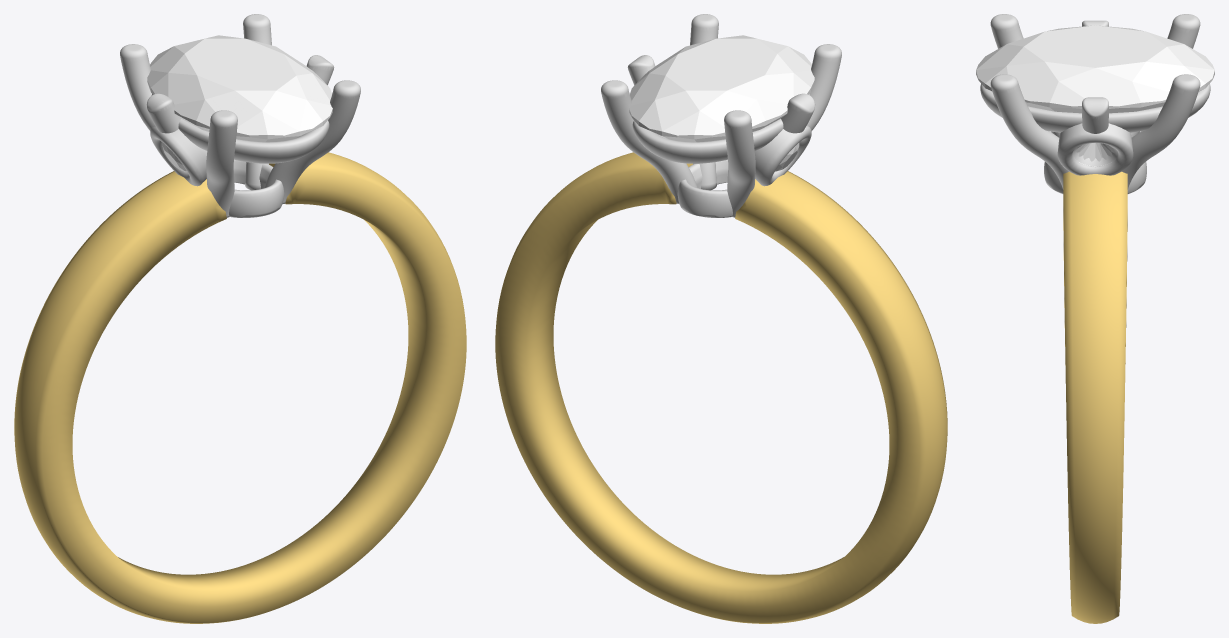
Rendered from RyanSabert.glb.
3 renders of one model, left to right at view 1: azimuth 30°, elevation 25°; view 2: azimuth 150°, elevation 25°; view 3: azimuth 270°, elevation 25°, orthographic.
Visible parts, largest first — view 1: YG, PT, diamond; view 2: YG, PT, diamond; view 3: YG, diamond, PT.
Part boxes in pixels (left/top/right/bottom): YG: left=14, top=152, right=466, bottom=623; PT: left=120, top=14, right=360, bottom=217; diamond: left=147, top=35, right=332, bottom=171; YG: left=495, top=152, right=947, bottom=623; PT: left=601, top=14, right=841, bottom=217; diamond: left=629, top=35, right=814, bottom=171; YG: left=1063, top=171, right=1127, bottom=623; diamond: left=976, top=25, right=1214, bottom=167; PT: left=980, top=14, right=1210, bottom=193.
Bounding box in the file's own units: 2.45 × 2.94 × 1.15.
